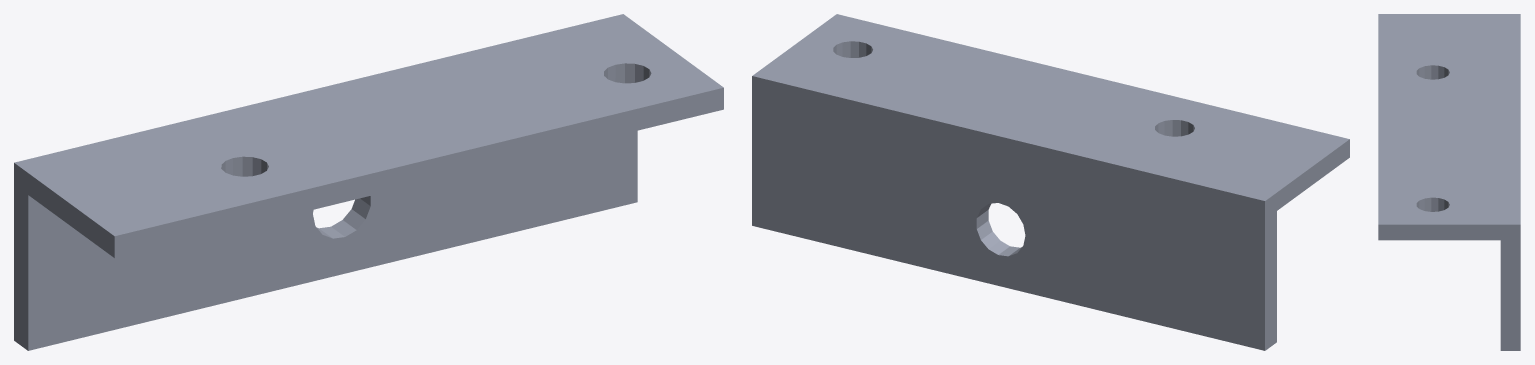
File: LeftRoofRail.glb
3 views of the same model, side by side, from view 1: azimuth 30°, elevation 25°; view 2: azimuth 150°, elevation 25°; view 3: azimuth 270°, elevation 25° (orthographic). The views are drawn at different scales.
Parts seen in each view (by area): view 1: LeftRoofRail; view 2: LeftRoofRail; view 3: LeftRoofRail.
Part boxes in pixels (x1,y1,x2,y2): LeftRoofRail: (14, 14, 723, 350); LeftRoofRail: (752, 14, 1349, 350); LeftRoofRail: (1378, 14, 1520, 350).
Bounding box in the file's own units: 2.03 × 0.5663 × 0.5803.
1 material, 1 textured.
